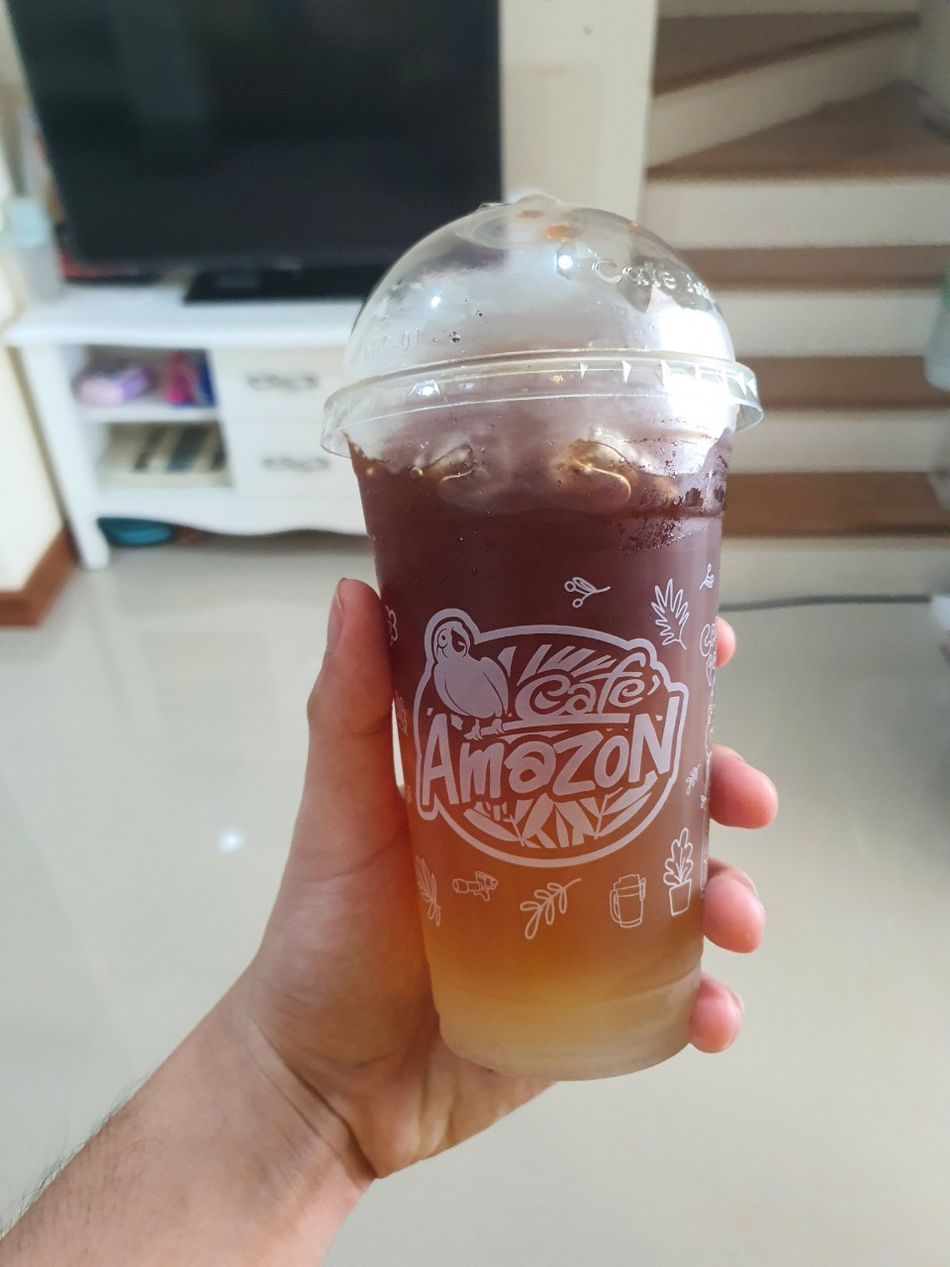plastic: (294, 182, 773, 1095)
